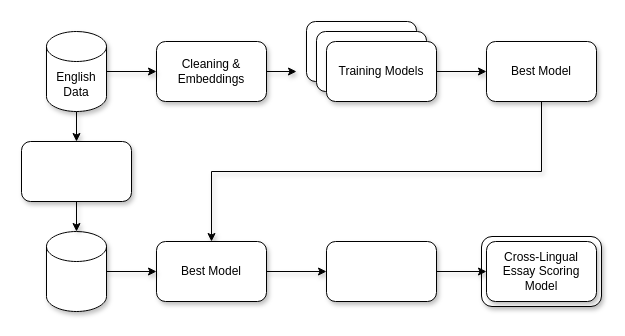
Some shapes in this 625 by 336 pixel diagram are drawn without their labels. The centre of each missing label's shape, as x and y in pixels:
"Back Translation" goes at pixel 77 172.
"Hebrew Data" goes at pixel 77 272.
"Transfer Learning / Fine Tuning" goes at pixel 382 272.
